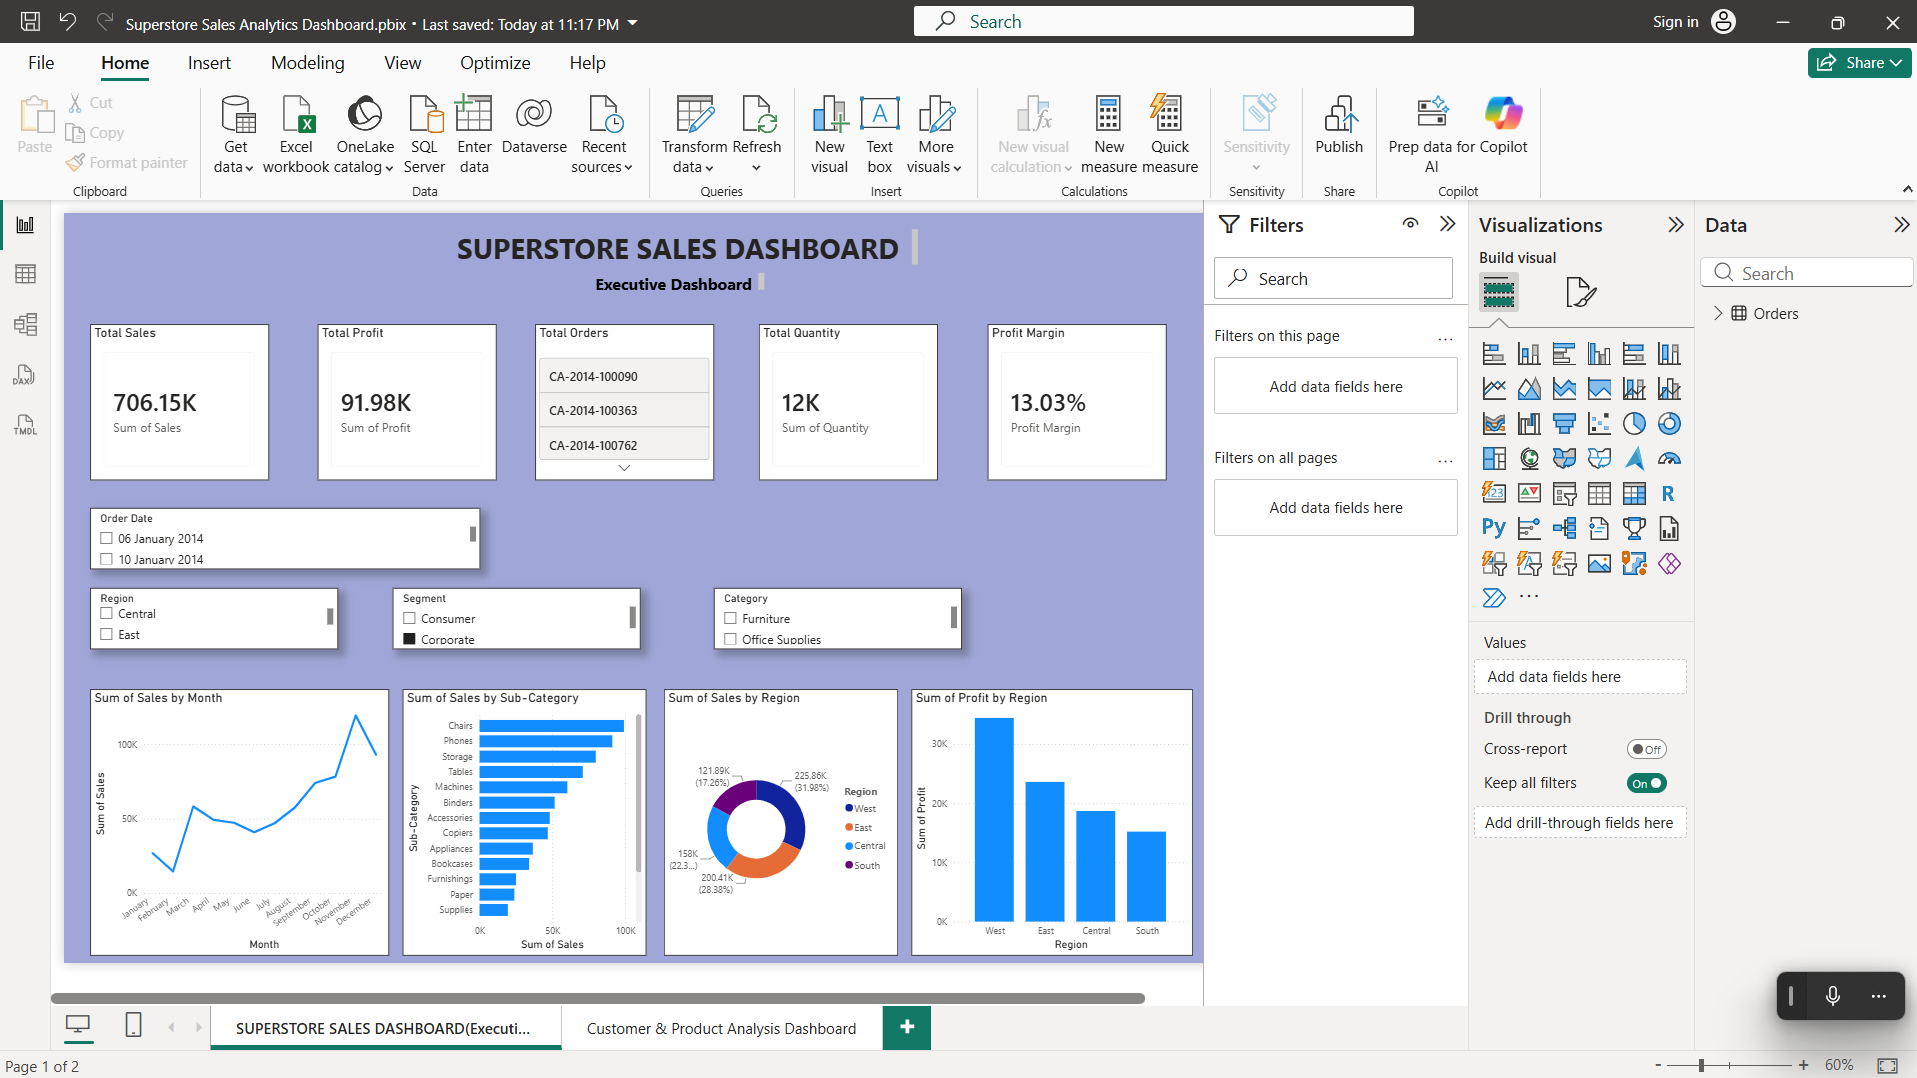

This screenshot's page, from the dashboard's own definition file:
{"tool":"powerbi","page":{"name":"SUPERSTORE SALES DASHBOARD(Executive Dashboard)","canvas":[1600,1000],"ordinal":0},"visuals":[{"type":"cardVisual","title":"Total Sales","fields":{"Data":["Sum(Orders.Sales)"]},"box":[35,148.3,238.3,208.3],"z":0},{"type":"cardVisual","title":"Total Orders","fields":{"Rows":["Orders.Order ID"],"Data":["CountNonNull(Orders.Total Orders)"]},"box":[628.3,148.3,238.3,208.3],"z":1000},{"type":"cardVisual","title":"Profit Margin","fields":{"Data":["Orders.Profit Margin"]},"box":[1231.7,148.3,238.3,208.3],"z":2000},{"type":"cardVisual","title":"Total Profit","fields":{"Data":["Sum(Orders.Profit)"]},"box":[338.3,148.3,238.3,208.3],"z":3000},{"type":"cardVisual","title":"Total Quantity","fields":{"Data":["Sum(Orders.Quantity)"]},"box":[926.7,148.3,238.3,208.3],"z":4000},{"type":"lineChart","fields":{"Category":["Orders.Order Date.Variation.Date Hierarchy.Year","Orders.Order Date.Variation.Date Hierarchy.Quarter","Orders.Order Date.Variation.Date Hierarchy.Month","Orders.Order Date.Variation.Date Hierarchy.Day"],"Y":["Sum(Orders.Sales)"]},"box":[35,635,398.3,355],"z":5000},{"type":"clusteredColumnChart","fields":{"Category":["Orders.Category"],"Y":["Sum(Orders.Sales)"]},"box":[604,1120,288,278],"z":6000},{"type":"donutChart","fields":{"Category":["Orders.Region"],"Y":["Sum(Orders.Sales)"]},"box":[800,635,311.7,355],"z":7000},{"type":"clusteredBarChart","fields":{"Y":["Sum(Orders.Sales)"],"Category":["Orders.Customer Name"]},"box":[206,1134,252,278],"z":8000},{"type":"clusteredBarChart","fields":{"Category":["Orders.Sub-Category"],"Y":["Sum(Orders.Sales)"]},"box":[451.7,635,325,355],"z":9000},{"type":"clusteredColumnChart","fields":{"Category":["Orders.Region"],"Y":["Sum(Orders.Profit)"]},"box":[1130,635,375,355],"z":10000},{"type":"slicer","fields":{"Values":["Orders.Order Date"]},"box":[35,393.3,520,81.7],"z":11000},{"type":"slicer","fields":{"Values":["Orders.Region"]},"box":[35,500,330,81.7],"z":12000},{"type":"slicer","fields":{"Values":["Orders.Segment"]},"box":[438.3,500,330,81.7],"z":13000},{"type":"slicer","fields":{"Values":["Orders.Category"]},"box":[866.7,500,330,81.7],"z":14000},{"type":"textbox","box":[501.7,16.7,641.7,58.3],"z":15000},{"type":"textbox","box":[703.3,75,235,35],"z":16000}]}

Visuals, with their boxes on the page's 1600x1000 design canvas (x1, y1, x2, y2). These are canvas units, not pixel positions in the 1917x1078 screenshot, which may show the page scaled, cropped or inside an application window:
"Total Sales" cardVisual: box(35, 148, 273, 357)
"Total Orders" cardVisual: box(628, 148, 867, 357)
"Profit Margin" cardVisual: box(1232, 148, 1470, 357)
"Total Profit" cardVisual: box(338, 148, 577, 357)
"Total Quantity" cardVisual: box(927, 148, 1165, 357)
lineChart - Orders.Order Date.Variation.Date Hierarchy.Year x Orders.Order Date.Variation.Date Hierarchy.Quarter: box(35, 635, 433, 990)
clusteredColumnChart - Orders.Category x Sum(Orders.Sales): box(604, 1120, 892, 1398)
donutChart - Orders.Region x Sum(Orders.Sales): box(800, 635, 1112, 990)
clusteredBarChart - Sum(Orders.Sales) x Orders.Customer Name: box(206, 1134, 458, 1412)
clusteredBarChart - Orders.Sub-Category x Sum(Orders.Sales): box(452, 635, 777, 990)
clusteredColumnChart - Orders.Region x Sum(Orders.Profit): box(1130, 635, 1505, 990)
slicer - Orders.Order Date: box(35, 393, 555, 475)
slicer - Orders.Region: box(35, 500, 365, 582)
slicer - Orders.Segment: box(438, 500, 768, 582)
slicer - Orders.Category: box(867, 500, 1197, 582)
textbox: box(502, 17, 1143, 75)
textbox: box(703, 75, 938, 110)
